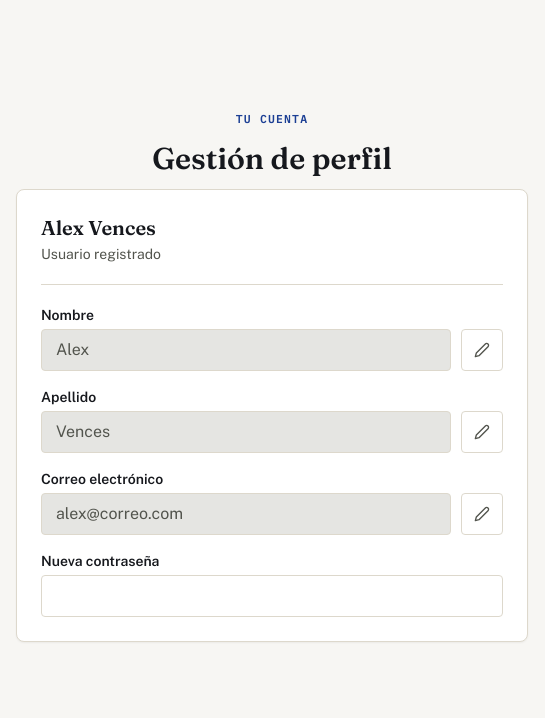
GestionarPerfil › shows the error when saving fails and keeps the save button available
Click the button named "Editar apellido" at (482, 432), box 461,411 -> 503,453
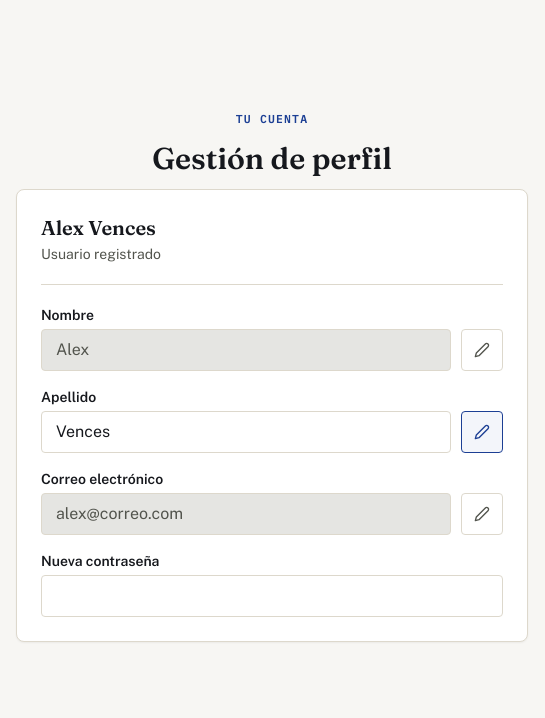
Replace the text in the field labelled "Apellido" with "Otro" at (246, 432), box 41,411 -> 451,453
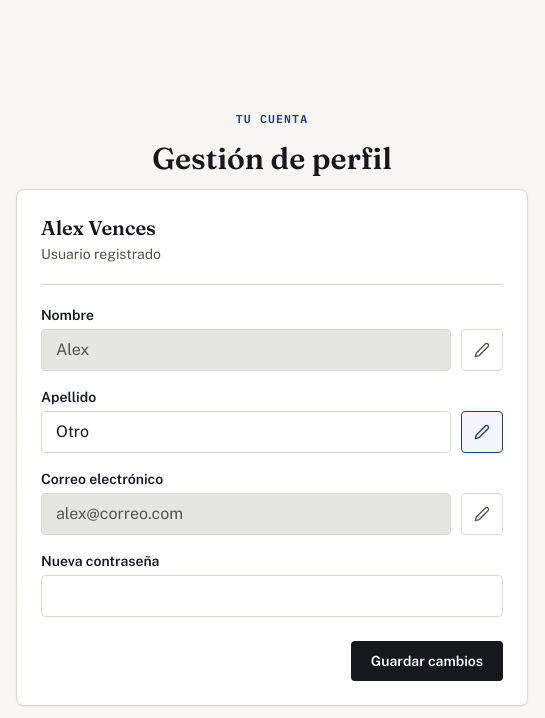
Click the button "Guardar cambios" at (427, 661), box 351,641 -> 503,681
(page scrolled)
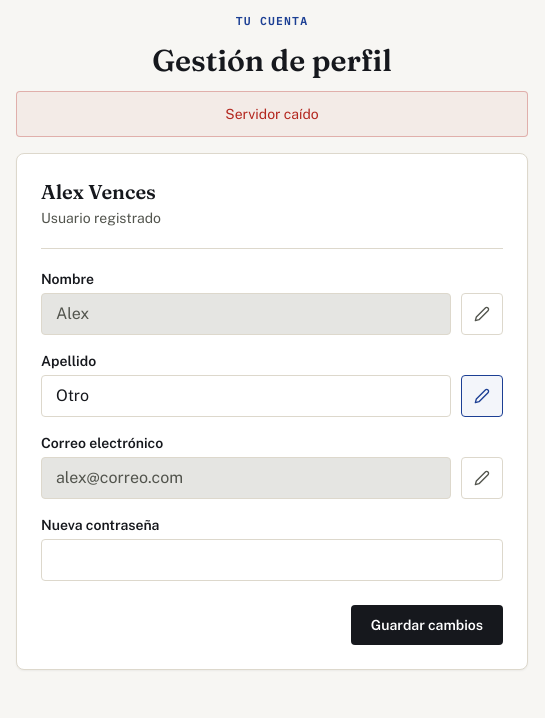
Expected: the button "Guardar cambios" is shown, 351,605 -> 503,645
Expected: the text "Servidor caído" is shown, 16,91 -> 528,137
